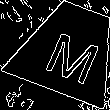M_N: (37, 18, 102, 81)
